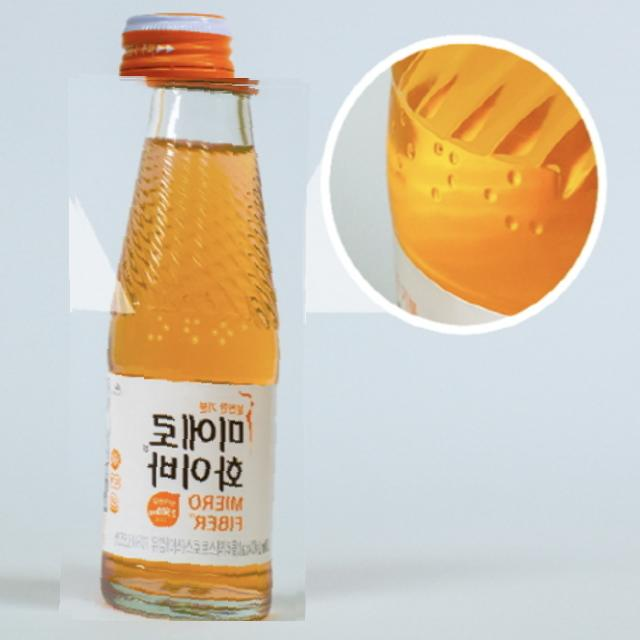recyclable: (63, 76, 306, 621)
